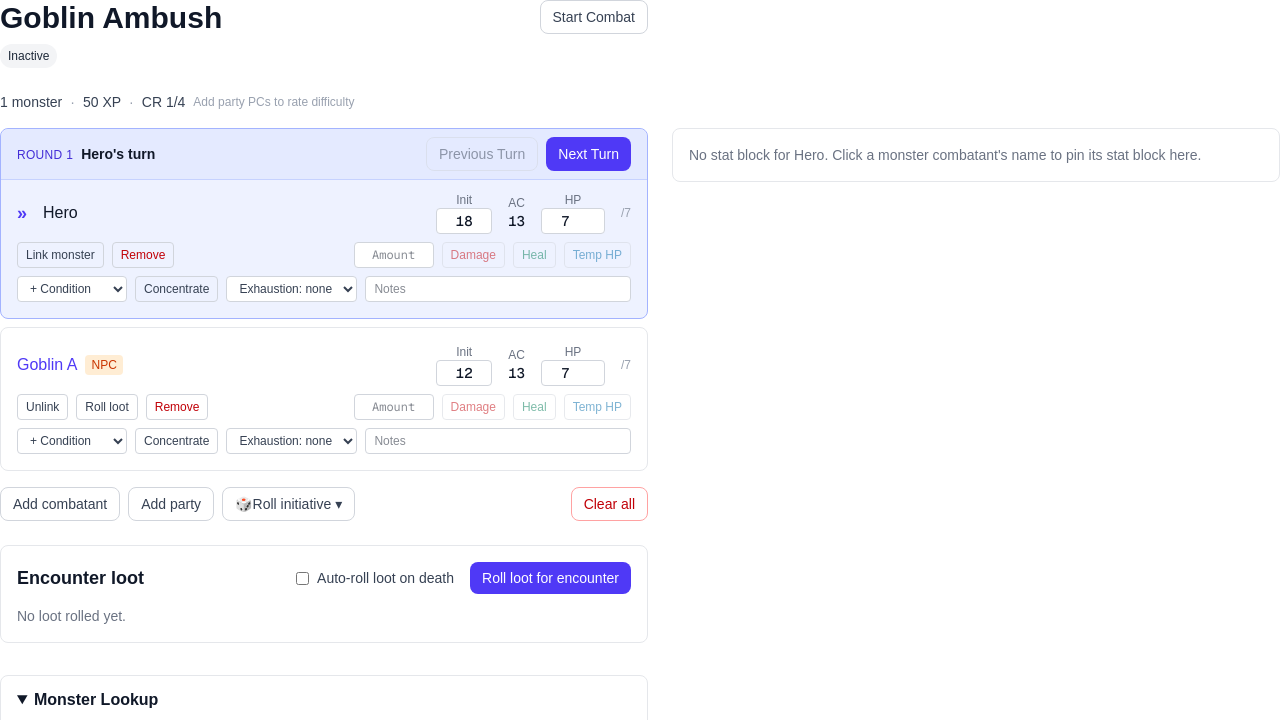
Scenario: InitiativeTrackerPage › link monster to combatant › links the picked monster to the right combatant without touching its other fields
The image size is (1280, 720).
Expected: the heading "Goblin Ambush" is shown, [0, 0, 222, 36]
Click the button with aria-label "link monster for hero". click: coordinates (60, 255)
box: [17, 242, 104, 268]
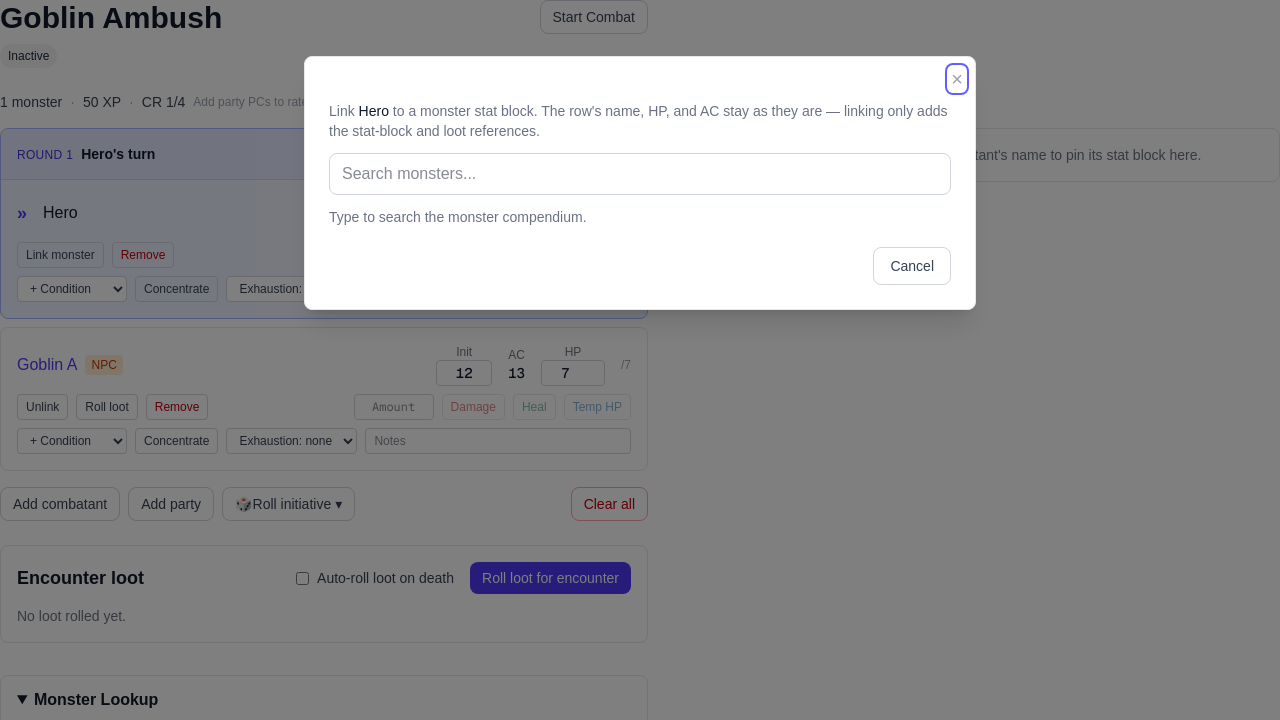
Type "goblin" into the field labelled "Search monsters...". click: coordinates (640, 174)
box: [329, 153, 951, 195]
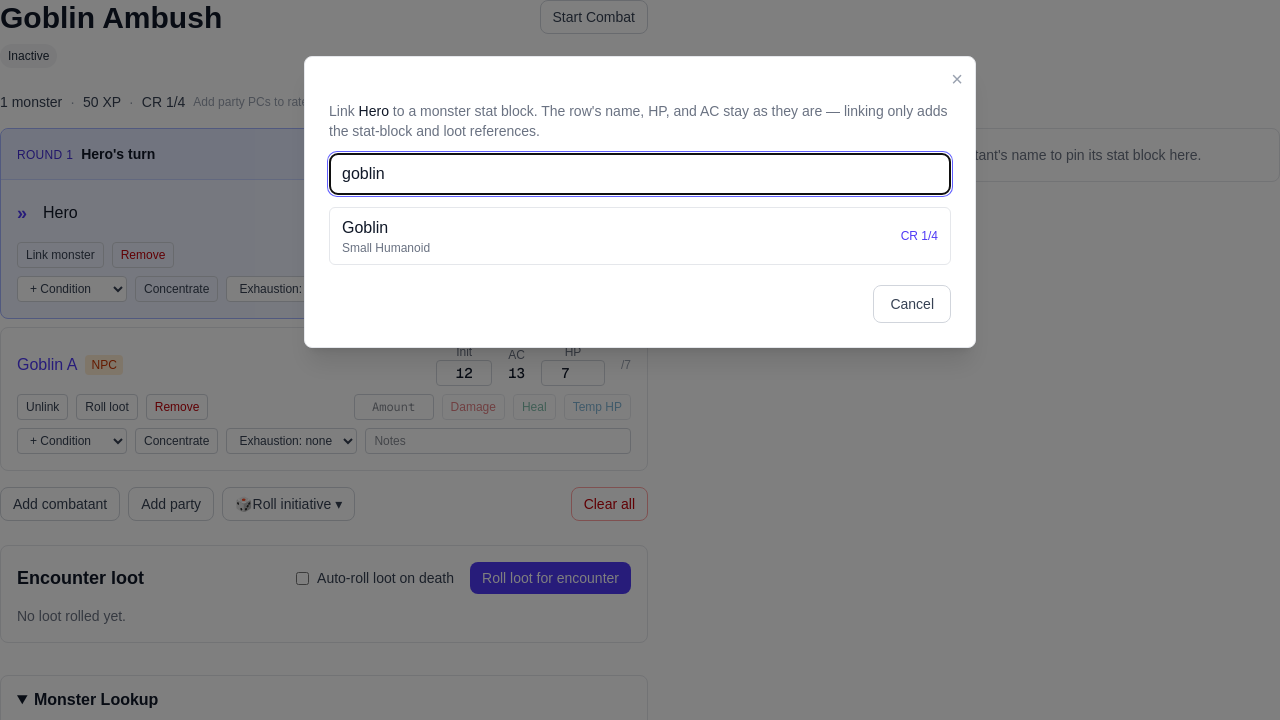
Click the button with test id "link-result". click: coordinates (365, 228)
box: [329, 207, 951, 265]
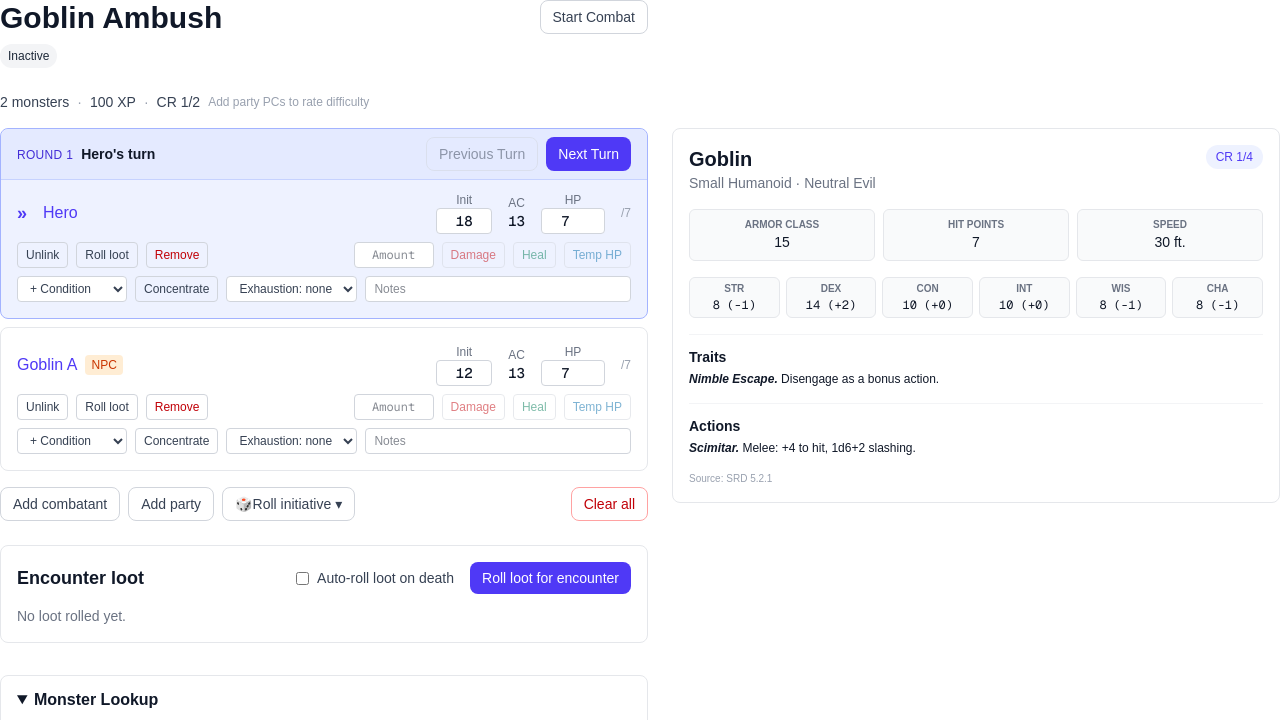
Expected: the dialog is gone
